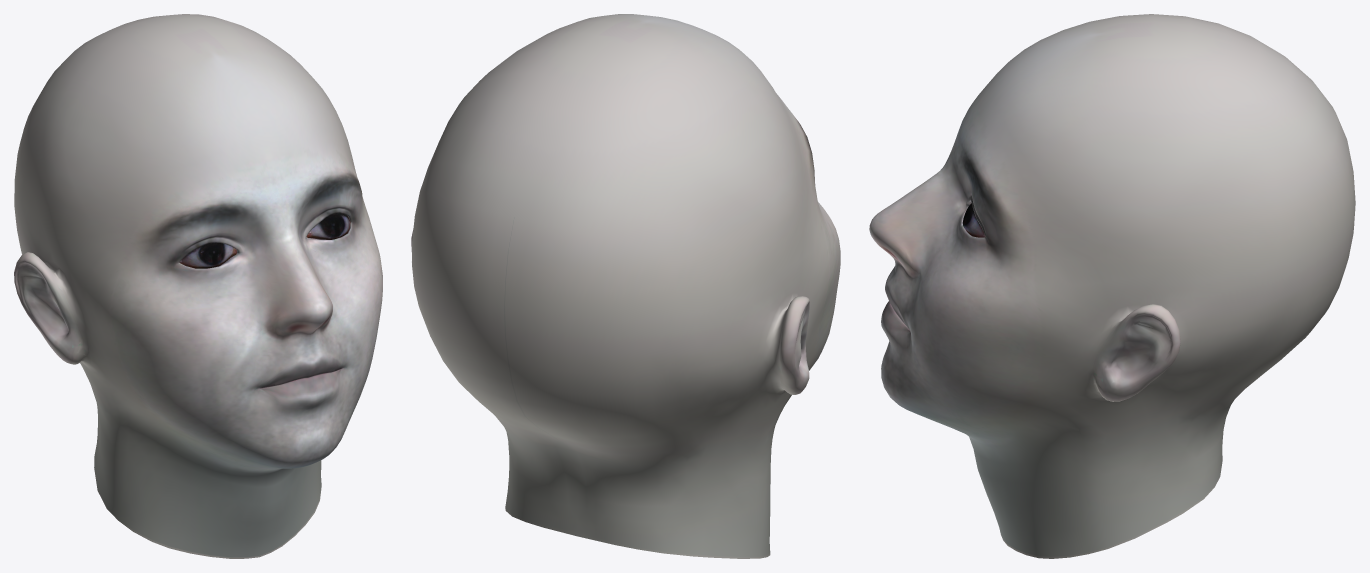
3 renders of one model, left to right at view 1: azimuth 30°, elevation 25°; view 2: azimuth 150°, elevation 25°; view 3: azimuth 270°, elevation 25°, orthographic. The views are drawn at different scales.
Parts seen in each view (by area): view 1: skin_hi, eyeR_hi, eyeL_hi; view 2: skin_hi; view 3: skin_hi.
Boxes of the visible parts, box(x1,y1,x2,y2) form: skin_hi: box(14, 14, 382, 558); eyeR_hi: box(179, 243, 236, 268); eyeL_hi: box(306, 213, 350, 239); skin_hi: box(411, 14, 840, 558); skin_hi: box(869, 14, 1355, 558).
Size of the model in its own units: 206 by 282 by 245.
